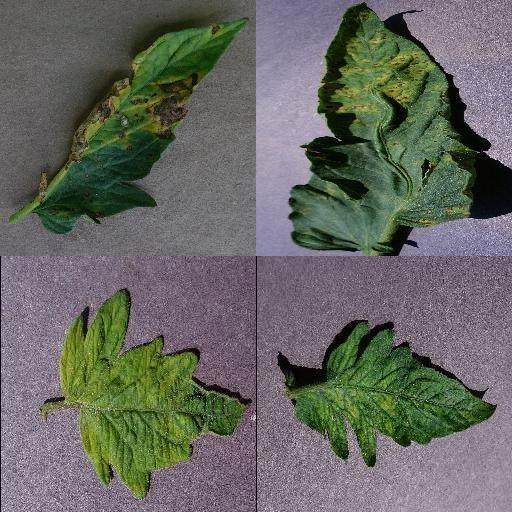Early Blight: (39, 17, 247, 239)
Mosaic Virus: (59, 287, 251, 503), (291, 319, 499, 469)
Septoria: (286, 1, 478, 256)
